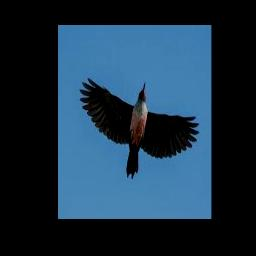Woodpecker: (80, 78, 199, 179)
